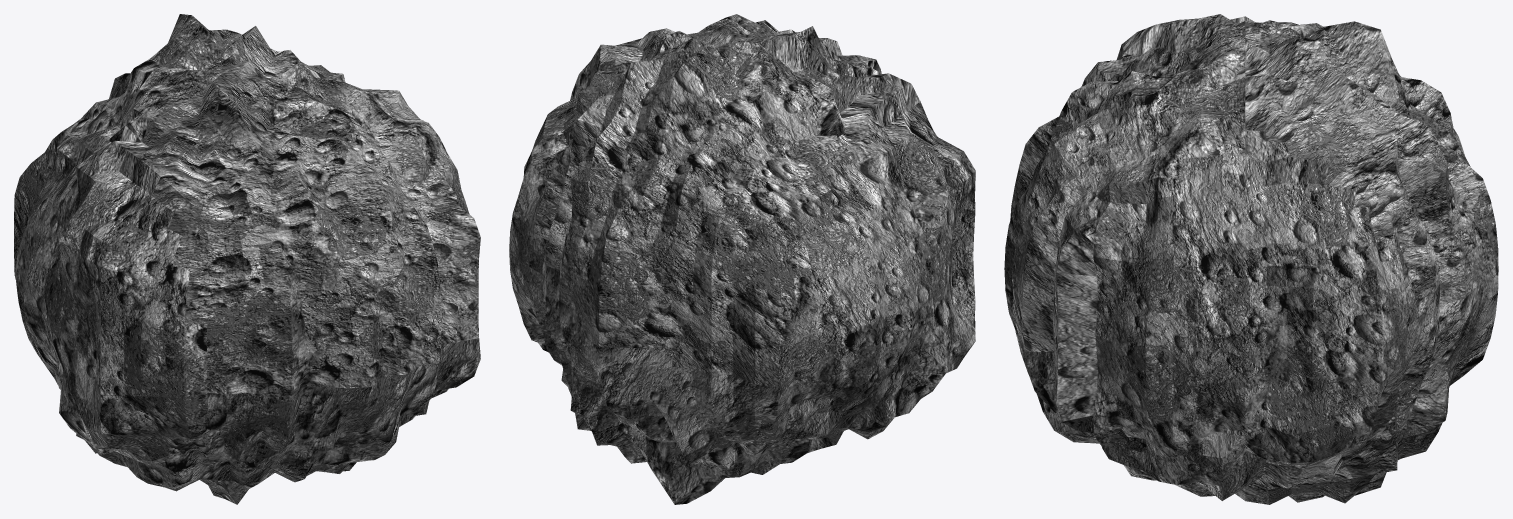
File: asteroid130.obj
The picture shows the model from 3 angles, left to right: view 1: azimuth 30°, elevation 25°; view 2: azimuth 150°, elevation 25°; view 3: azimuth 270°, elevation 25°; orthographic projection. The views are drawn at different scales.
Visible parts, largest first — view 1: Cube_Cube.002; view 2: Cube_Cube.002; view 3: Cube_Cube.002.
Boxes of the visible parts, x1=… form: Cube_Cube.002: x1=14, y1=14, x2=480, y2=504; Cube_Cube.002: x1=509, y1=14, x2=975, y2=504; Cube_Cube.002: x1=1004, y1=14, x2=1498, y2=504.
Bounding box in the file's own units: 1.76 × 1.88 × 1.77.
